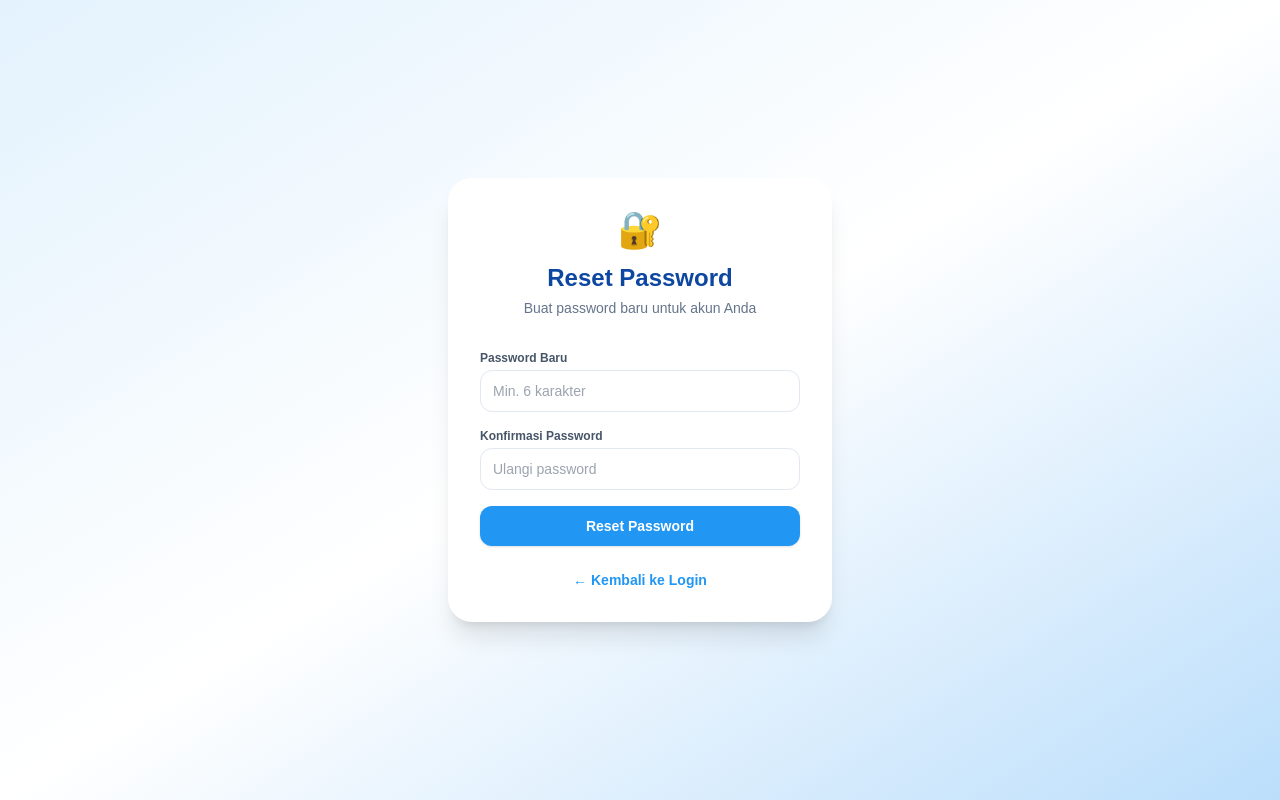
Test: ResetPasswordPage › shows error when token missing
Step 1. Type "newpass123" into the password field with placeholder "Min. 6 karakter" → (640, 391), box [480, 370, 800, 412]
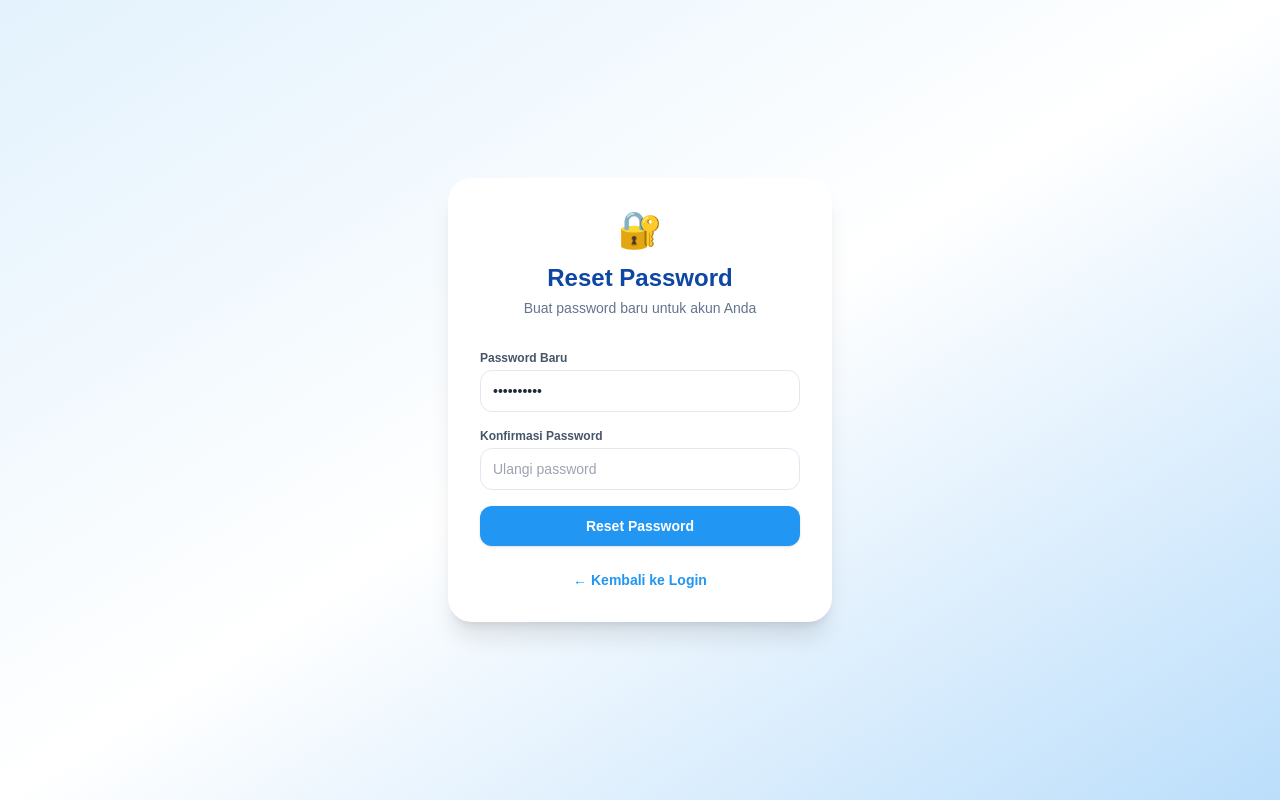
Step 2. Type "newpass123" into the password field with placeholder "Ulangi password" → (640, 469), box [480, 448, 800, 490]
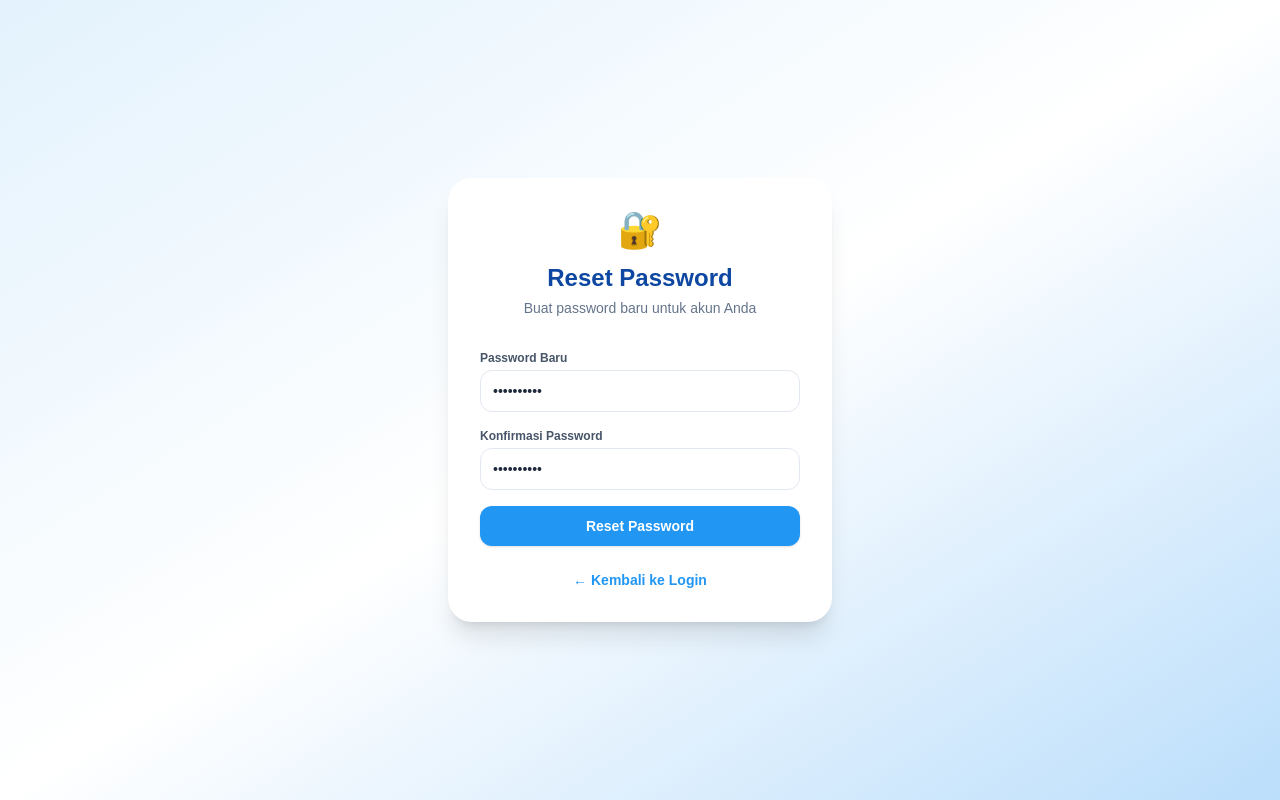
Step 3. Click the button "Reset Password" → (640, 526), box [480, 506, 800, 546]
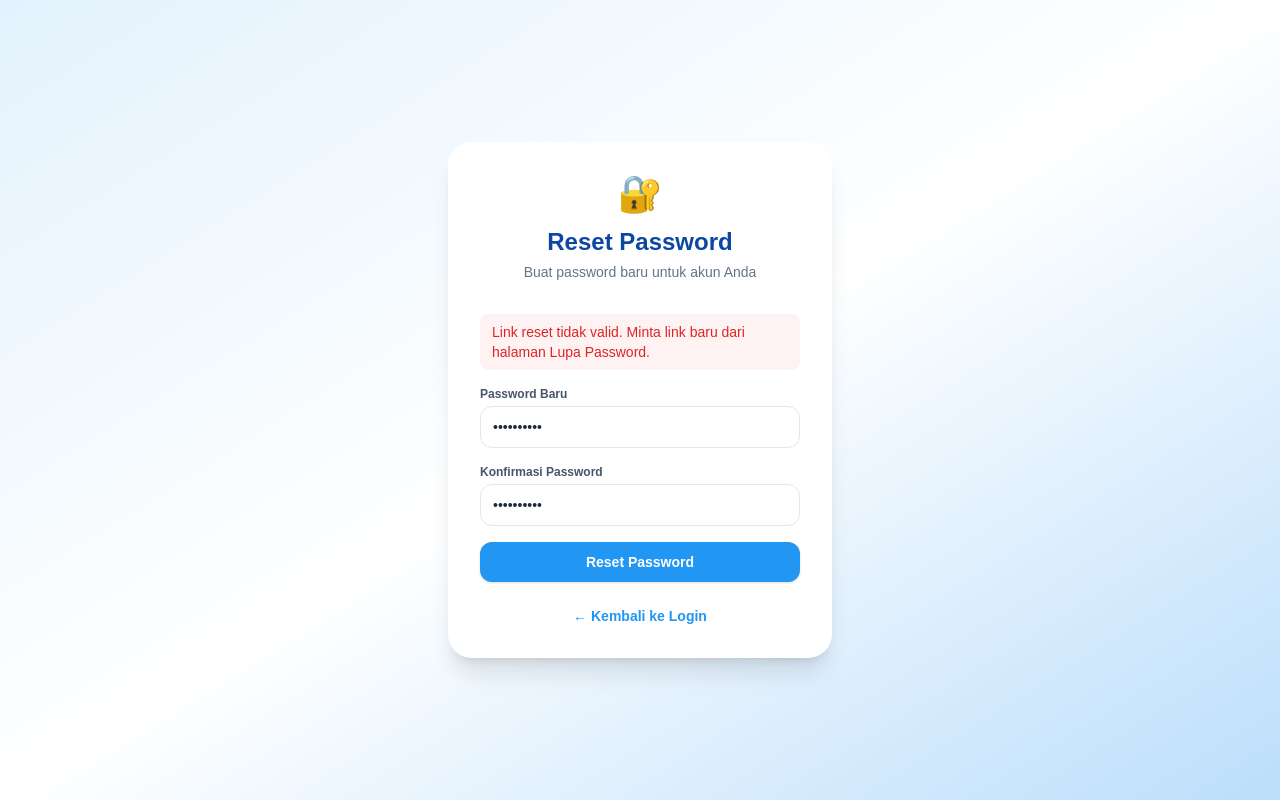
Result: the text "Link reset tidak valid. Minta link baru dari halaman Lupa Password." is shown at [480, 314, 800, 370]
